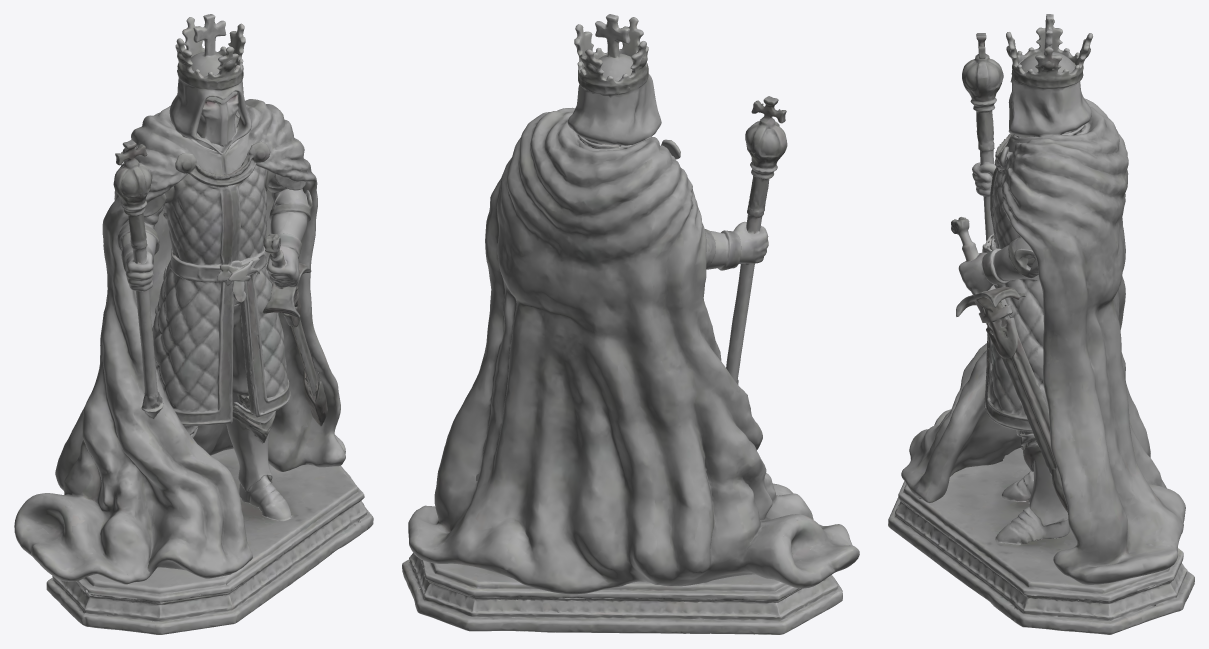
Rendered from king_high.glb.
3 views of the same model, side by side, from view 1: azimuth 30°, elevation 25°; view 2: azimuth 150°, elevation 25°; view 3: azimuth 270°, elevation 25° (orthographic). The views are drawn at different scales.
Parts seen in each view (by area): view 1: geometry_0; view 2: geometry_0; view 3: geometry_0.
Part boxes in pixels (box(x1,y1,x2,y2)): geometry_0: box(14, 14, 373, 634); geometry_0: box(402, 14, 859, 634); geometry_0: box(888, 14, 1194, 634).
Size of the model in its own units: 0.7064 by 0.9974 by 0.5139.
Materials: 1 (1 with a texture image).
